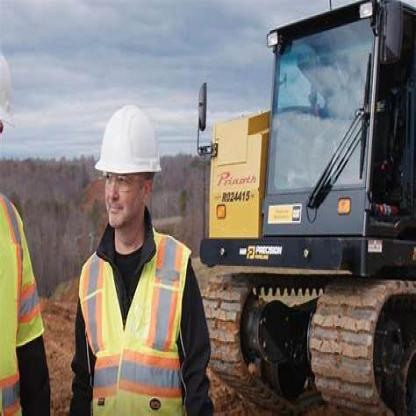person: (74, 92, 213, 414)
